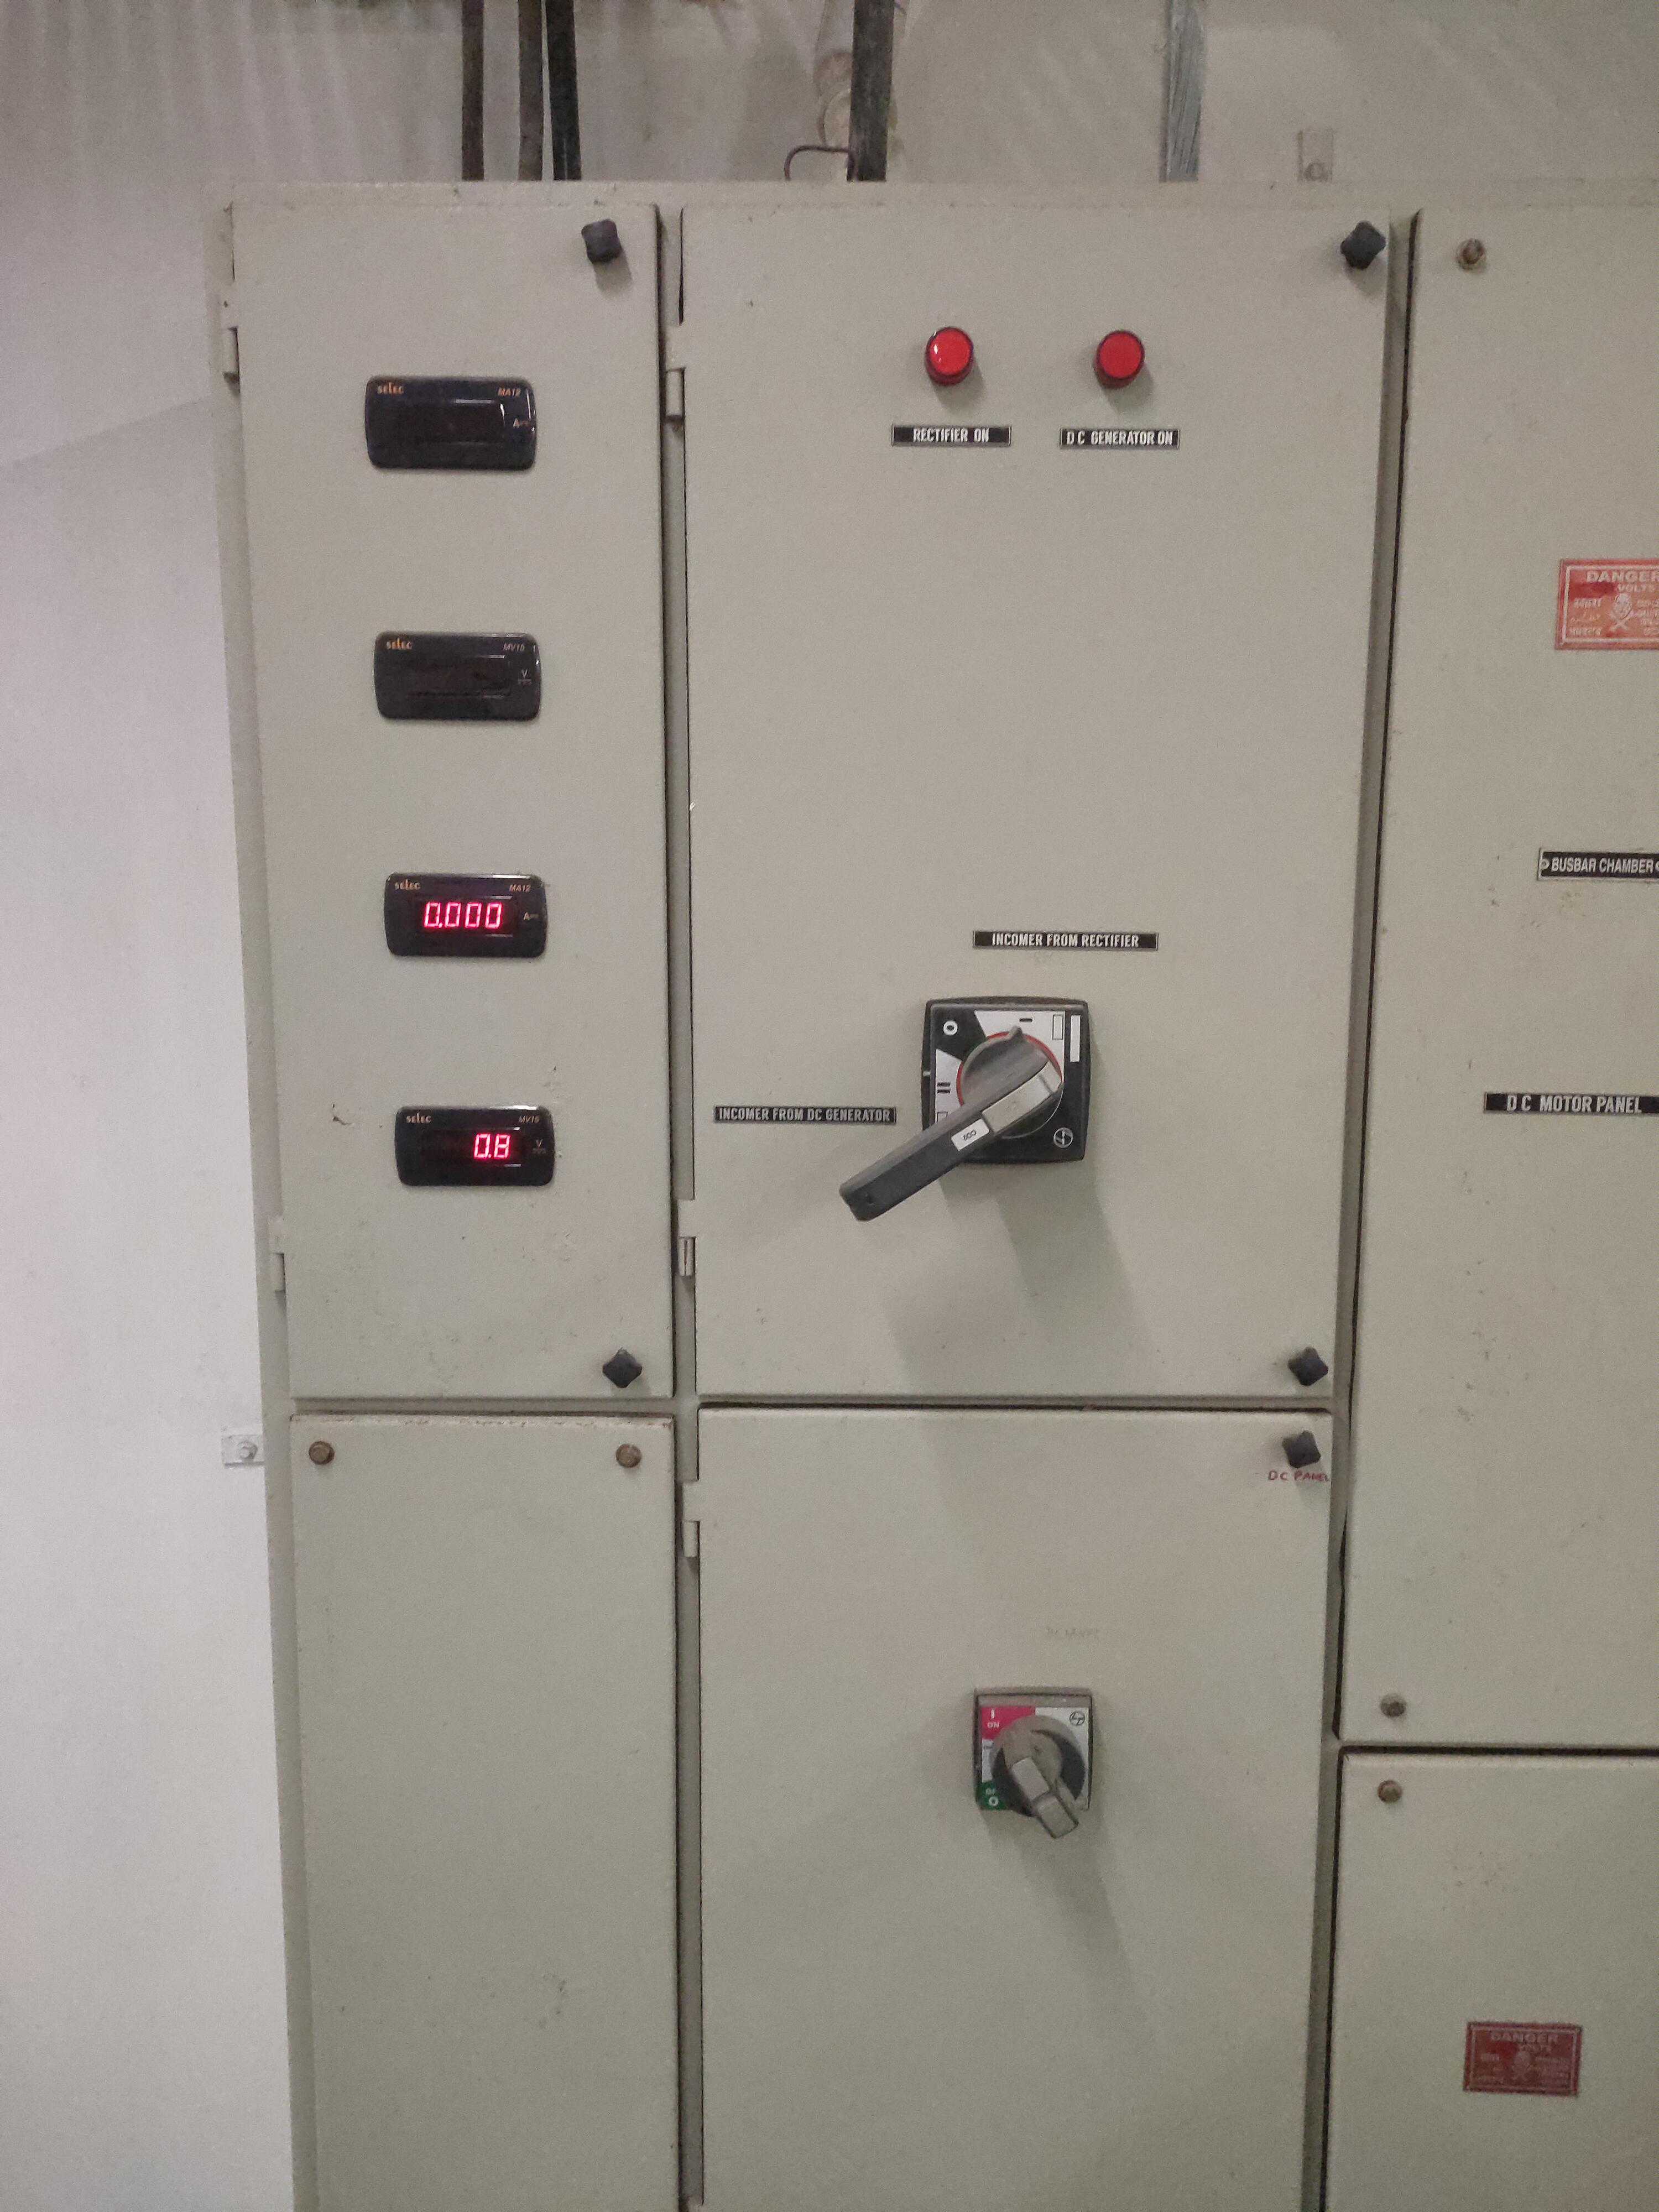Knob 1: (795, 970, 1138, 1247)
Knob 2: (948, 1662, 1152, 1846)
Light Indications: (887, 291, 1169, 467)
